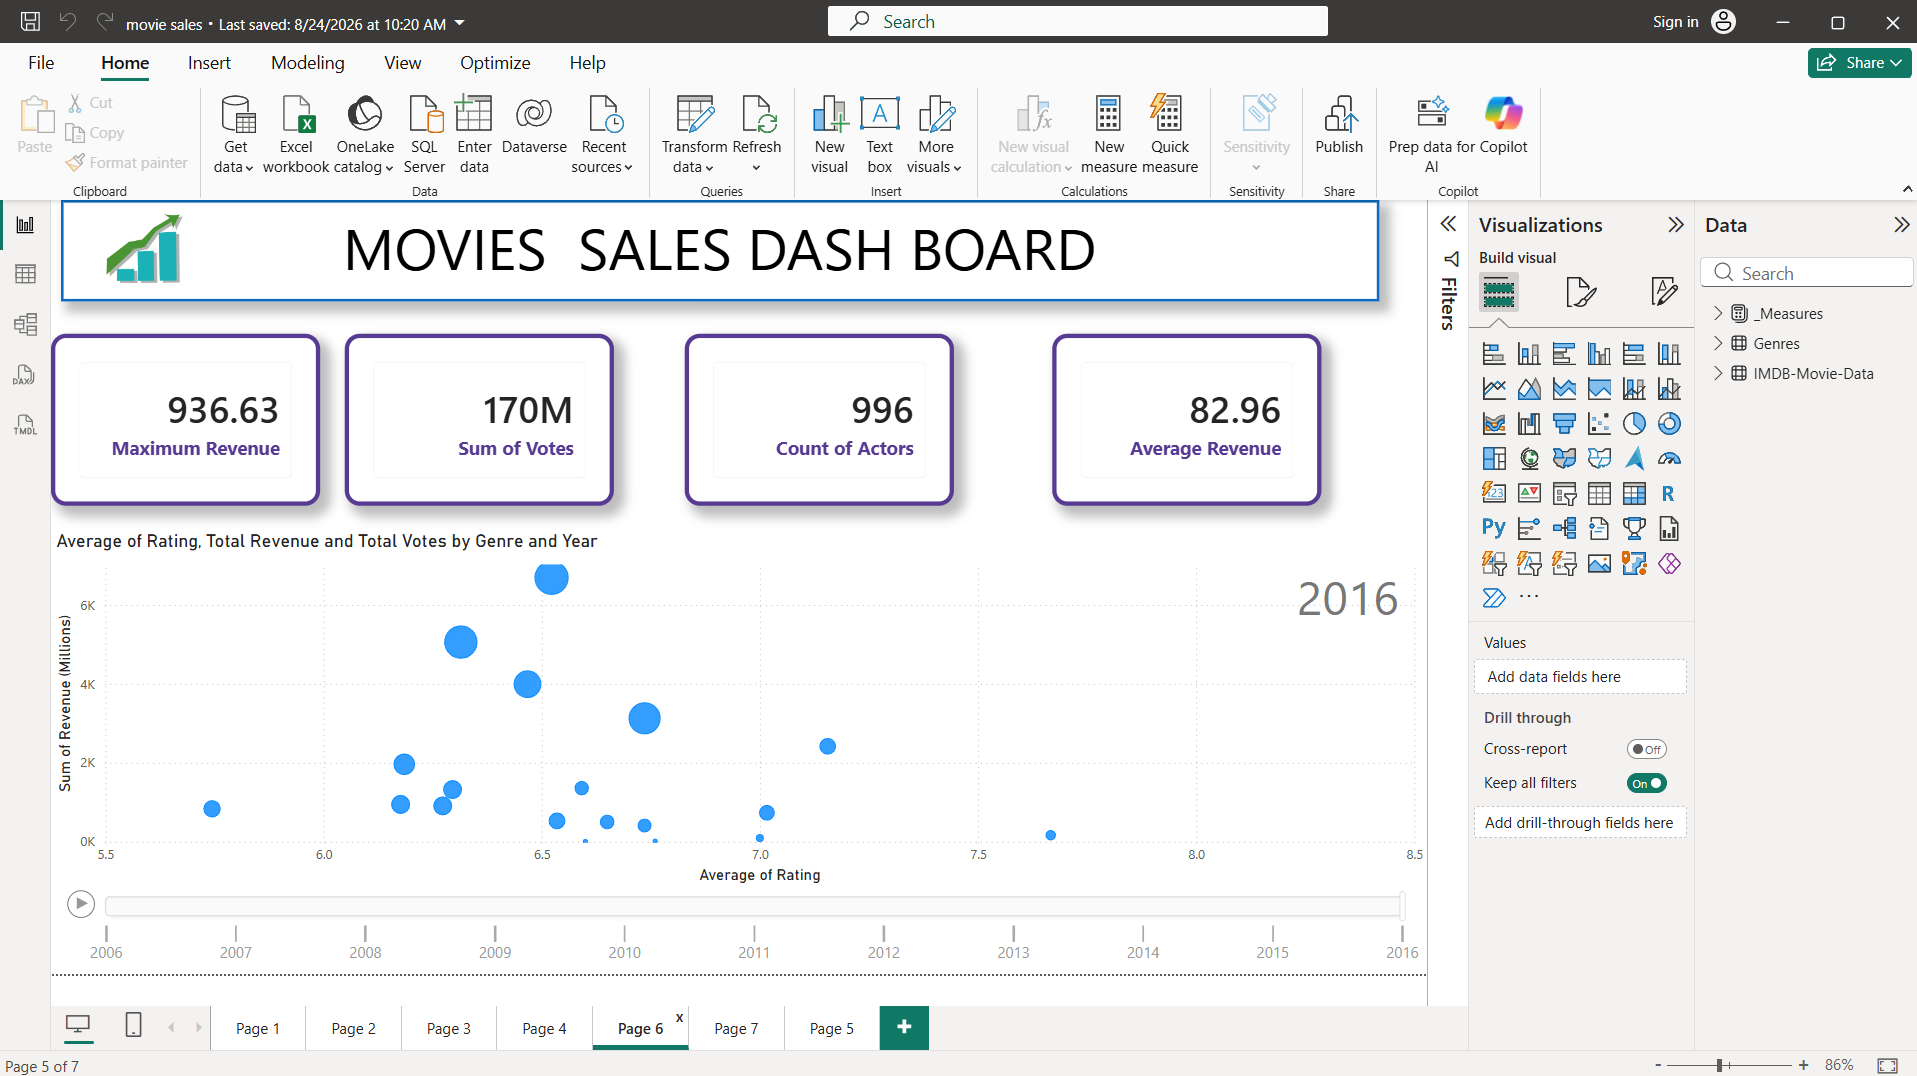

What the dashboard file says about the page in this screenshot:
{"tool":"powerbi","page":{"name":"Page 6","canvas":[1280,720],"ordinal":4},"visuals":[{"type":"cardVisual","fields":{"Data":["Max(IMDB-Movie-Data.Revenue (Millions))"]},"box":[0,124.4,250,160],"z":0},{"type":"cardVisual","fields":{"Data":["Avg(IMDB-Movie-Data.Revenue (Millions))"]},"box":[931.4,124.4,250,160],"z":1000},{"type":"cardVisual","fields":{"Data":["Count(IMDB-Movie-Data.Actors)"]},"box":[589.5,124.4,250,160],"z":2000},{"type":"cardVisual","fields":{"Data":["Sum(IMDB-Movie-Data.Votes)"]},"box":[273.3,124.4,250,160],"z":3000},{"type":"scatterChart","title":"Average of Rating, Total Revenue and Total Votes by Genre and Year","fields":{"X":["IMDB-Movie-Data.Rating"],"Y":["IMDB-Movie-Data.Revenue (Millions)"],"Size":["Sum(IMDB-Movie-Data.Votes)"],"Category":["Genres.Genre"],"Play":["IMDB-Movie-Data.Year"]},"box":[0,307,1281.4,414],"z":4000},{"type":"textbox","box":[9.3,0,1226.7,94.2],"z":5000},{"type":"image","box":[0,3.5,169.8,80.2],"z":6000}]}

Visuals, with their boxes on the page's 1280x720 design canvas (x1, y1, x2, y2). These are canvas units, not pixel positions in the 1917x1076 screenshot, which may show the page scaled, cropped or inside an application window:
cardVisual - Max(IMDB-Movie-Data.Revenue (Millions)): (left=0, top=124, right=250, bottom=284)
cardVisual - Avg(IMDB-Movie-Data.Revenue (Millions)): (left=931, top=124, right=1181, bottom=284)
cardVisual - Count(IMDB-Movie-Data.Actors): (left=590, top=124, right=840, bottom=284)
cardVisual - Sum(IMDB-Movie-Data.Votes): (left=273, top=124, right=523, bottom=284)
"Average of Rating, Total Revenue and Total Votes by Genre and Year" scatterChart: (left=0, top=307, right=1281, bottom=721)
textbox: (left=9, top=0, right=1236, bottom=94)
image: (left=0, top=4, right=170, bottom=84)
